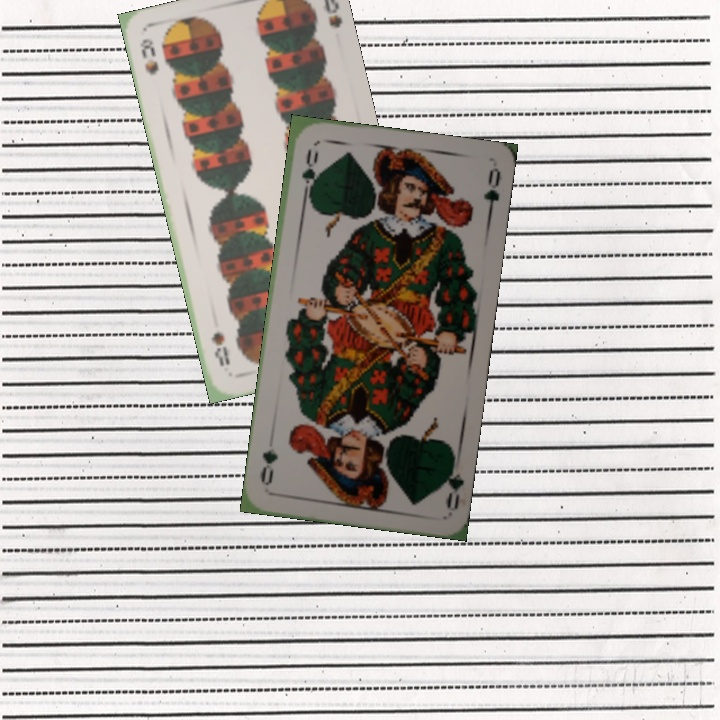GO: (437, 453, 466, 512), (297, 145, 321, 202)
S8: (136, 34, 161, 78)
